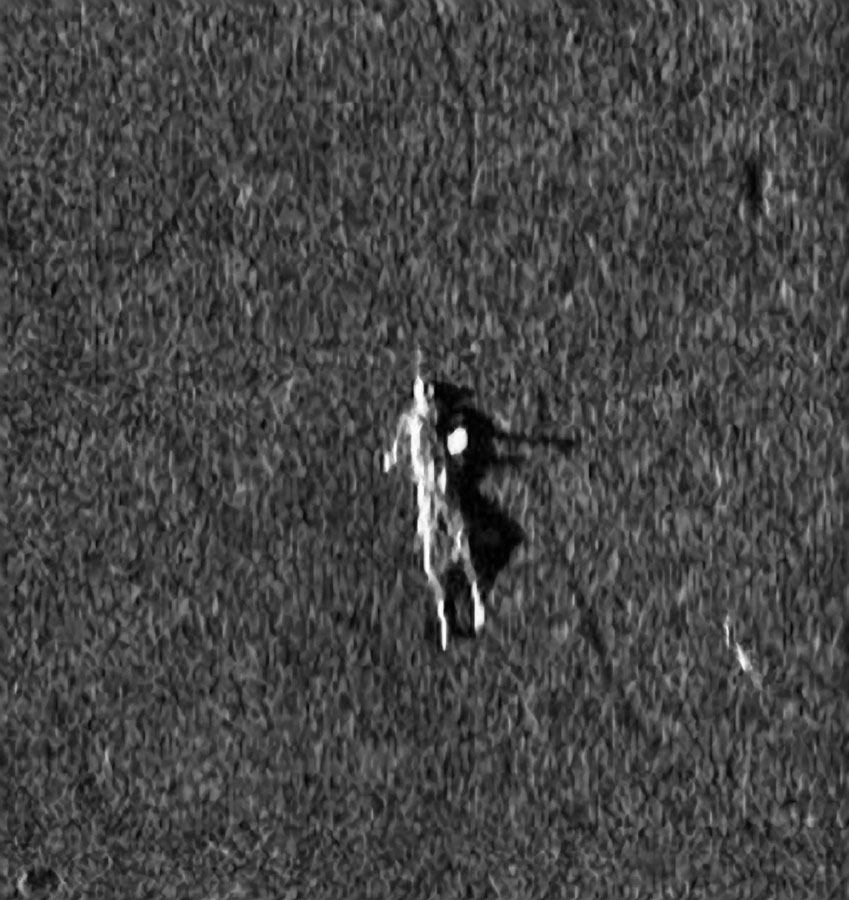man: (371, 372, 490, 657)
